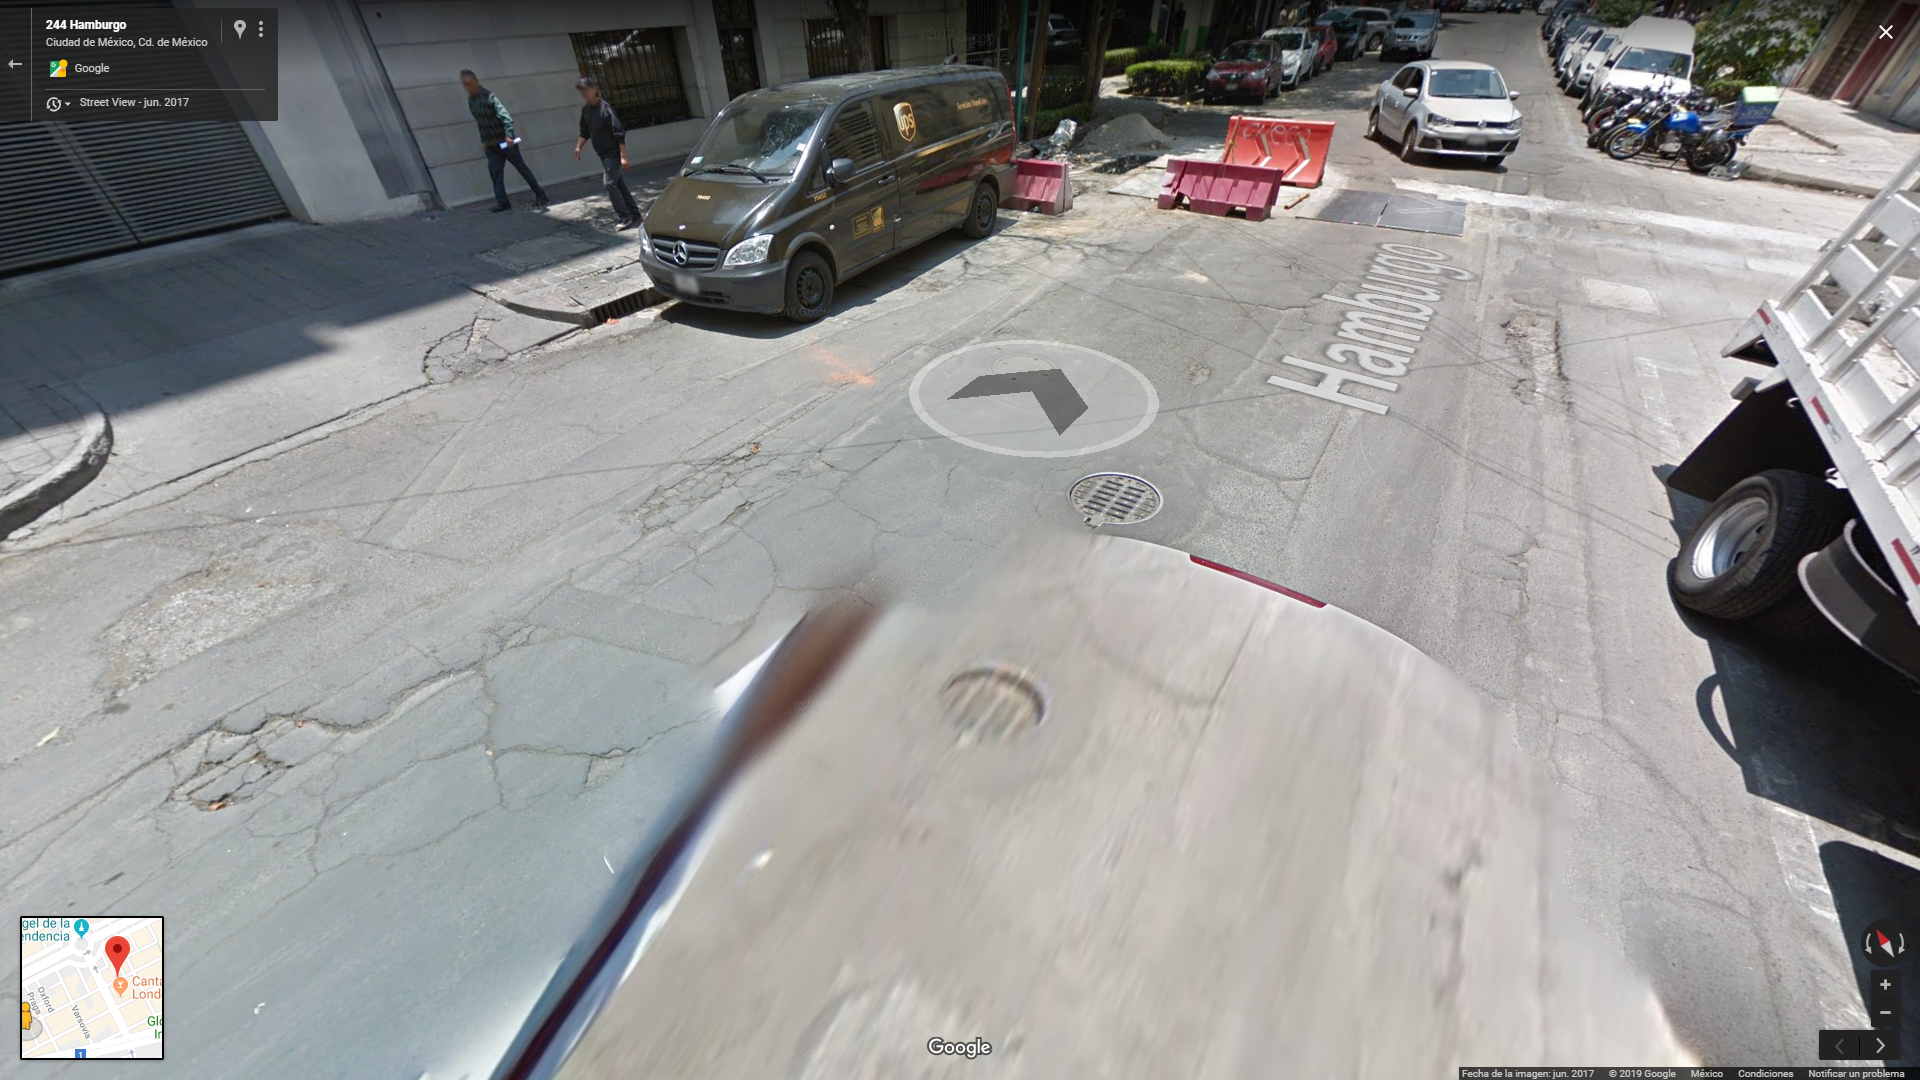pothole: (79, 521, 336, 713), (1498, 299, 1581, 411)
